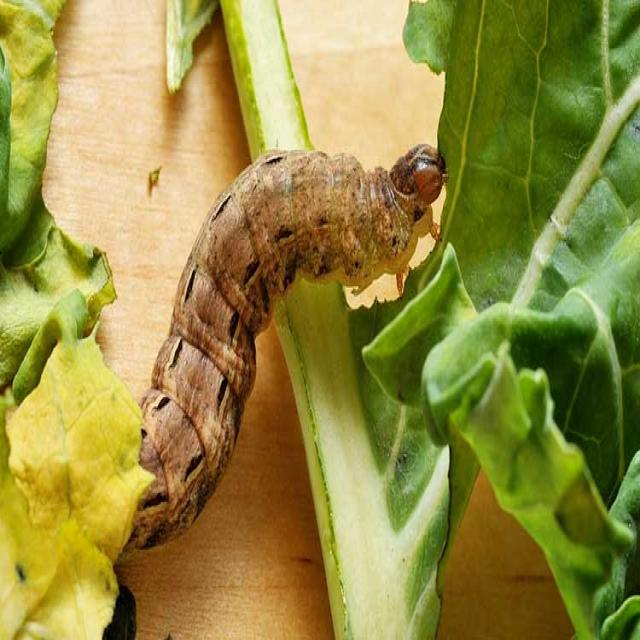Cutworm: (94, 146, 451, 553)
